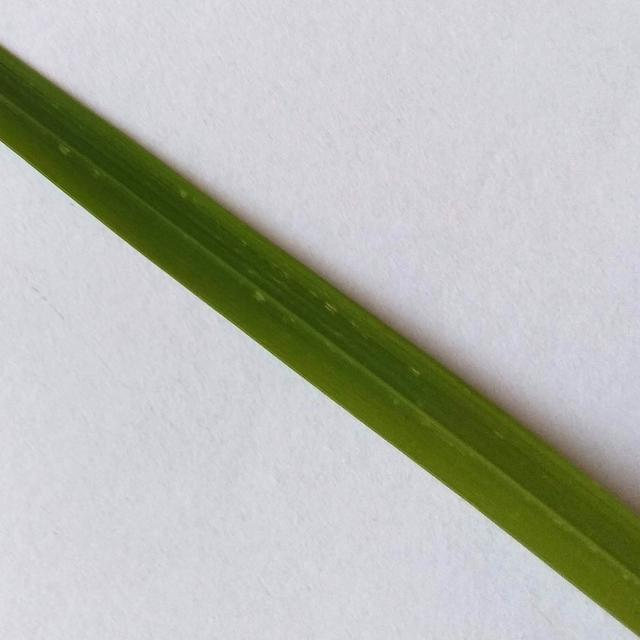Rice_Healthy: (0, 46, 640, 635)
